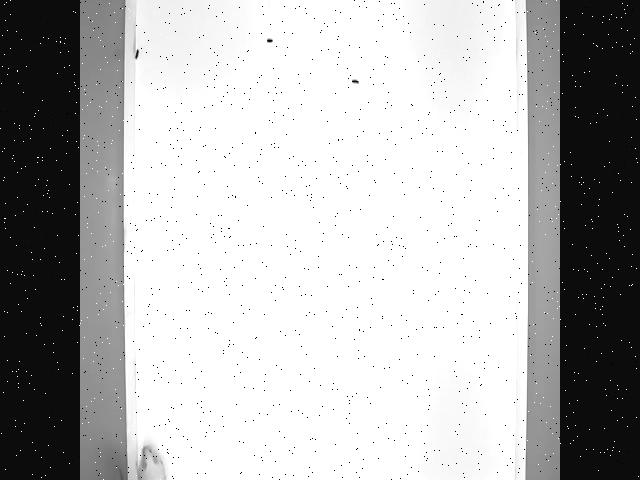Tikus: (118, 441, 168, 480)
